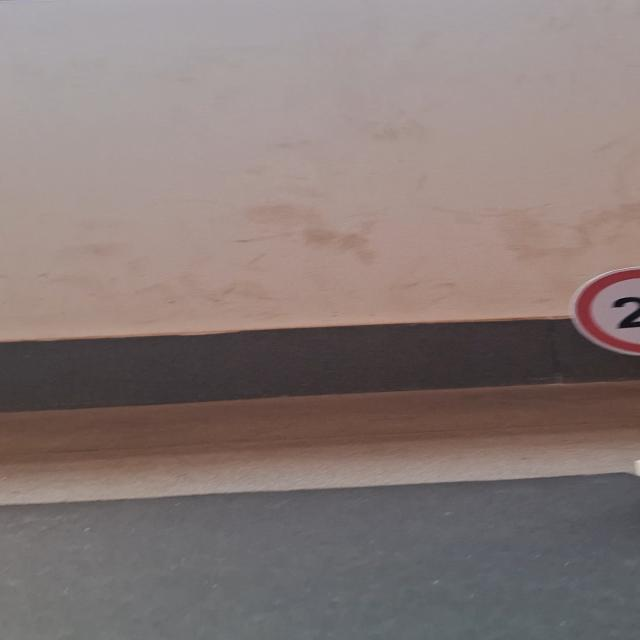Speed20: (563, 262, 640, 360)
